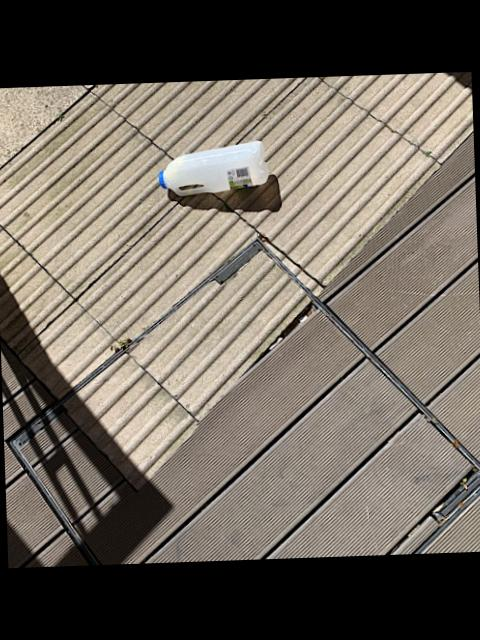plastic: (160, 140, 268, 194)
